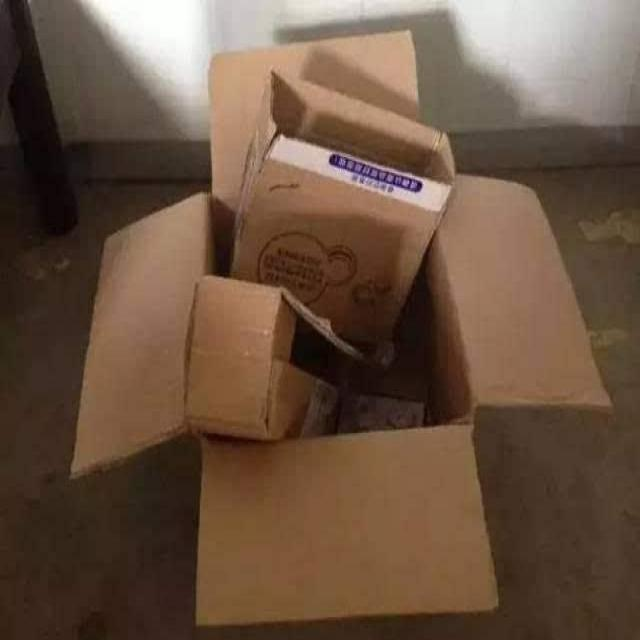cardboard: (206, 30, 452, 348), (188, 441, 502, 618), (436, 154, 614, 414), (60, 197, 211, 483), (192, 271, 364, 435)
